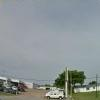Tree: (44, 48, 99, 96)
